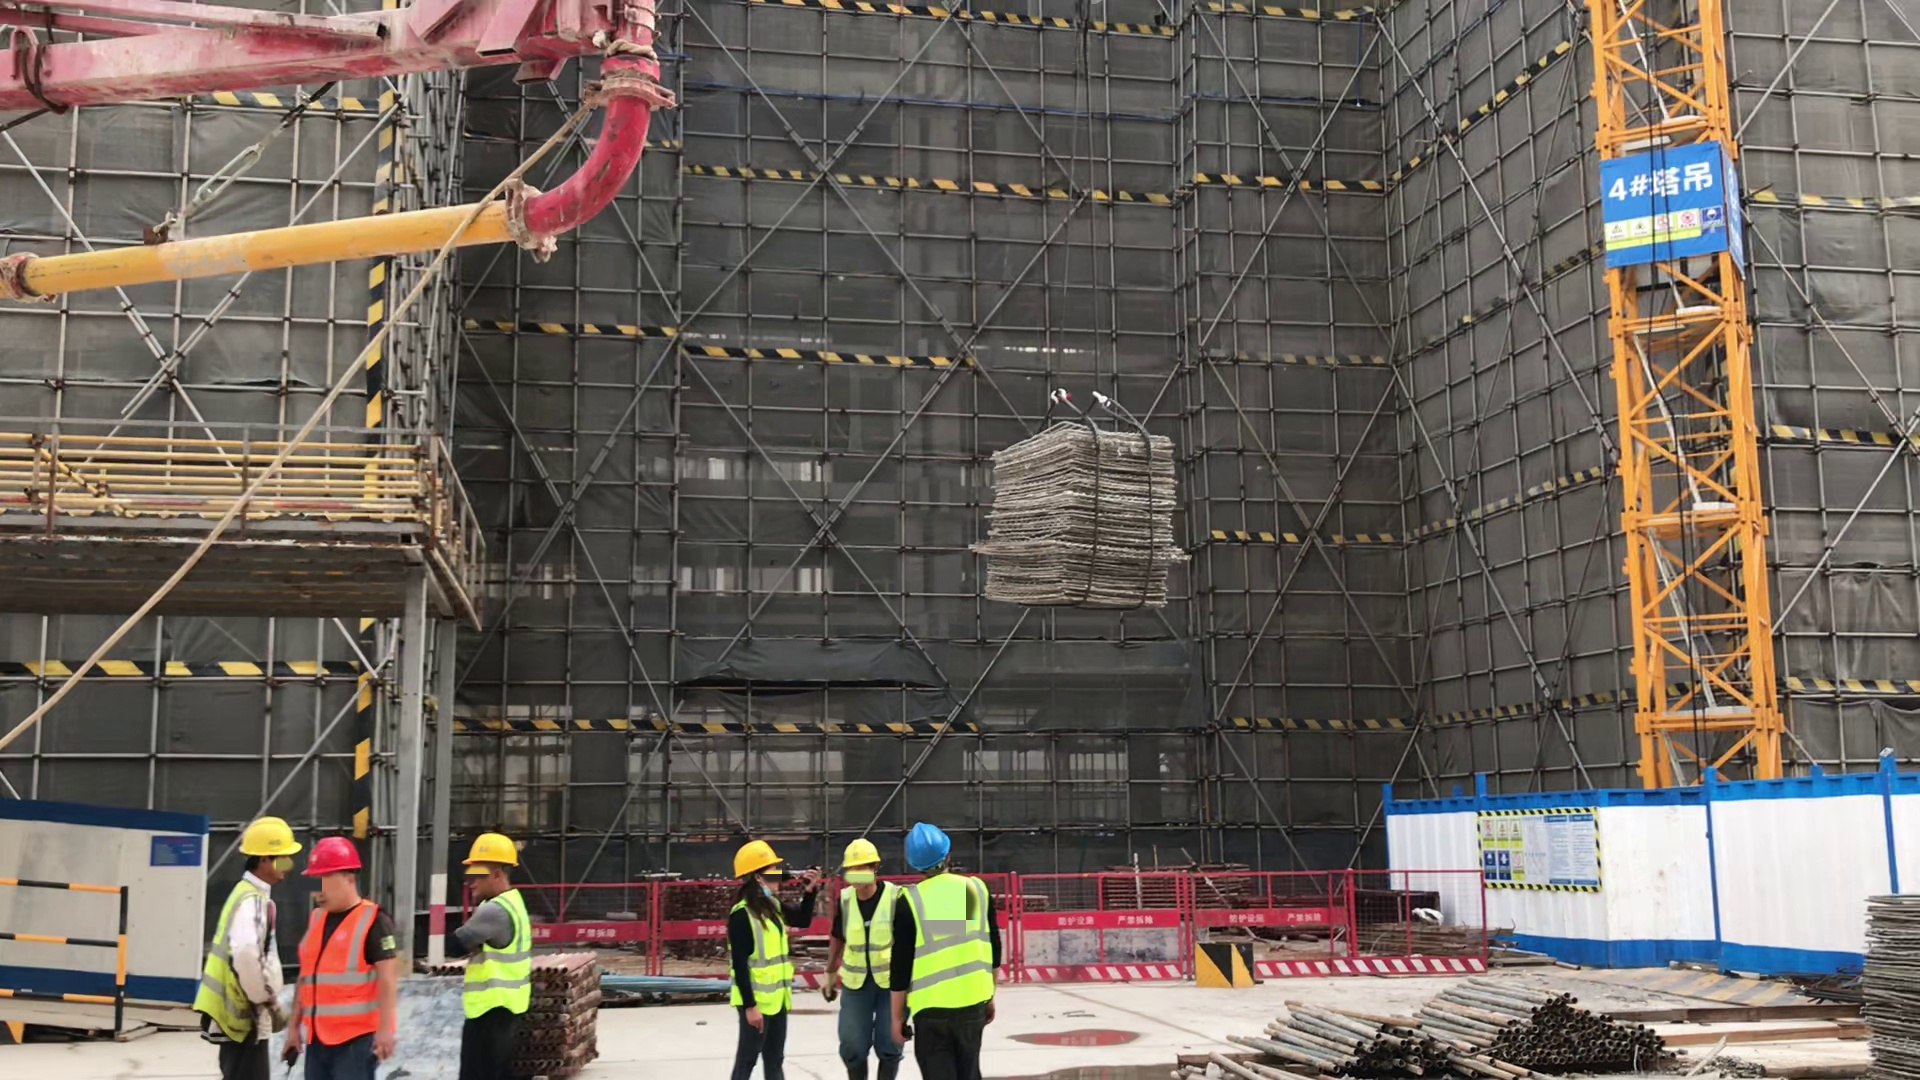fence: (1254, 867, 1488, 979), (1010, 861, 1187, 991), (6, 871, 134, 1016), (556, 880, 707, 968)
helmet: (235, 814, 306, 859), (295, 835, 369, 877), (458, 833, 522, 870), (906, 822, 952, 871), (733, 840, 785, 877), (841, 835, 881, 870)
person: (282, 833, 402, 1080), (188, 812, 295, 1080), (894, 820, 1003, 1077), (451, 832, 537, 1080), (721, 836, 798, 1080), (824, 833, 892, 1080)
scaffold: (1439, 975, 1680, 1074), (1224, 994, 1462, 1075)
slogan: (1477, 812, 1607, 894), (1607, 157, 1725, 245)
vest: (893, 875, 1000, 1021), (189, 881, 274, 1047), (298, 904, 383, 1047), (454, 886, 535, 1017), (726, 898, 799, 1016), (836, 883, 895, 993)
